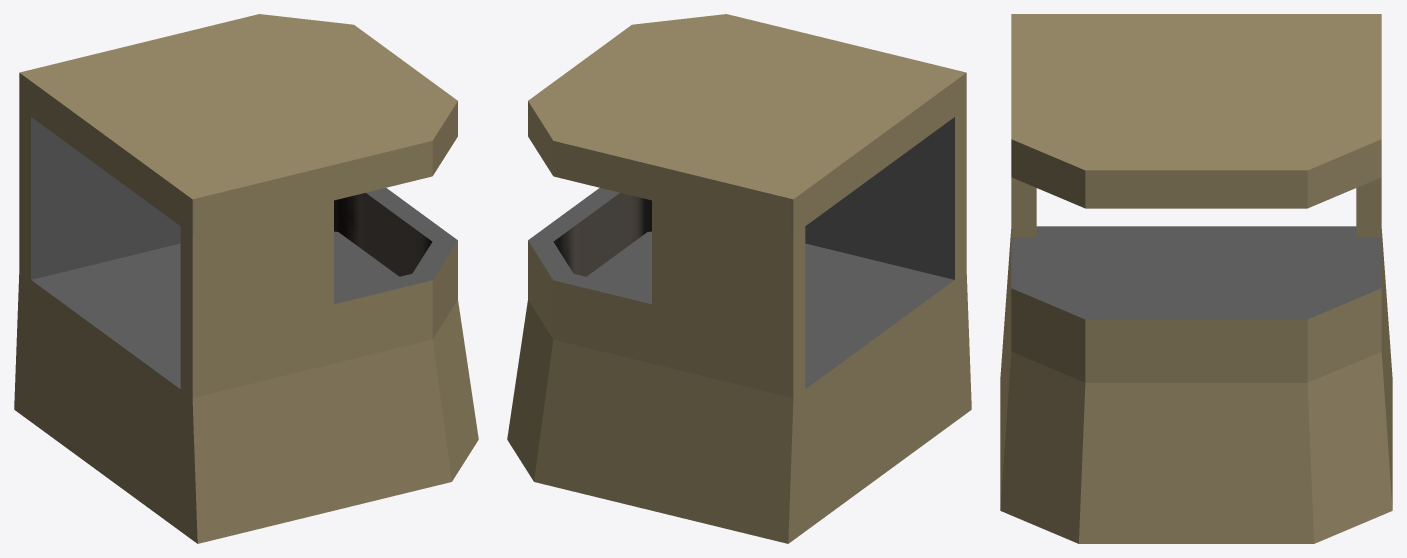
Rendered from RobotTower.fbx.
3 views of the same model, side by side, from view 1: azimuth 30°, elevation 25°; view 2: azimuth 150°, elevation 25°; view 3: azimuth 270°, elevation 25° (orthographic). The views are drawn at different scales.
Visible parts, largest first — view 1: pCube3; view 2: pCube3; view 3: pCube3.
Boxes of the visible parts, x1,y1,x2,y2 form: pCube3: (14,14,478,543); pCube3: (507,14,971,543); pCube3: (1000,14,1392,543).
Bounding box in the file's own units: 2.12 × 2.17 × 2.12.
